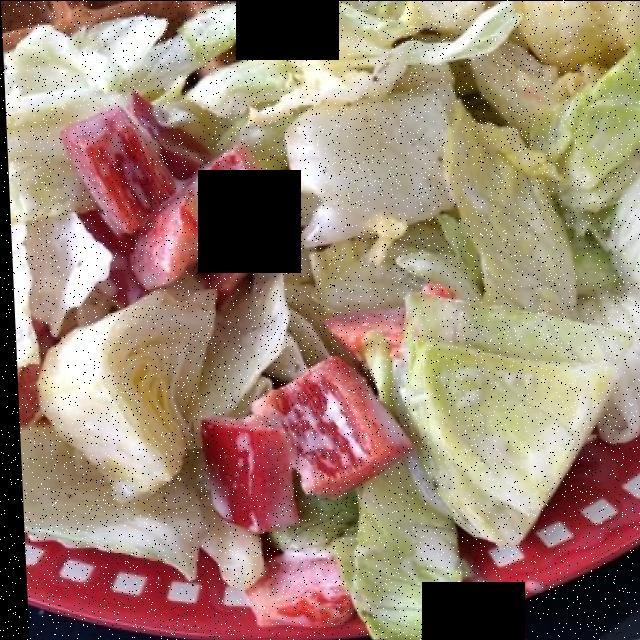bell-pepper: (74, 84, 408, 569)
salad: (49, 10, 637, 607)
